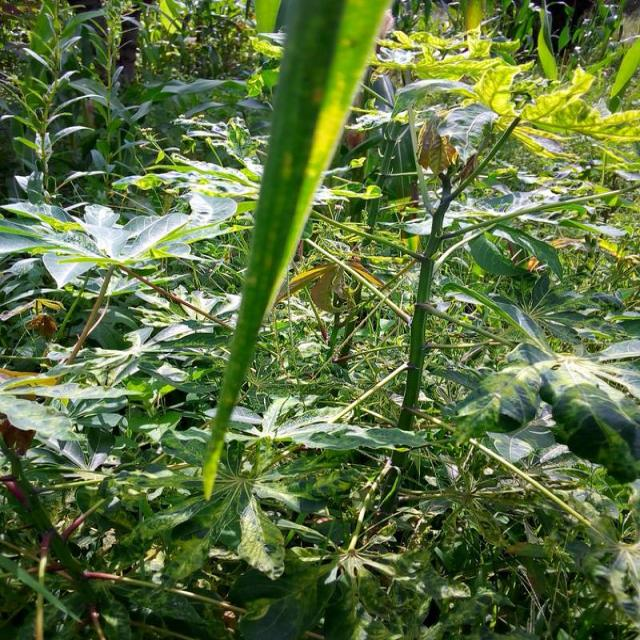cassava leaf: (201, 0, 395, 501)
